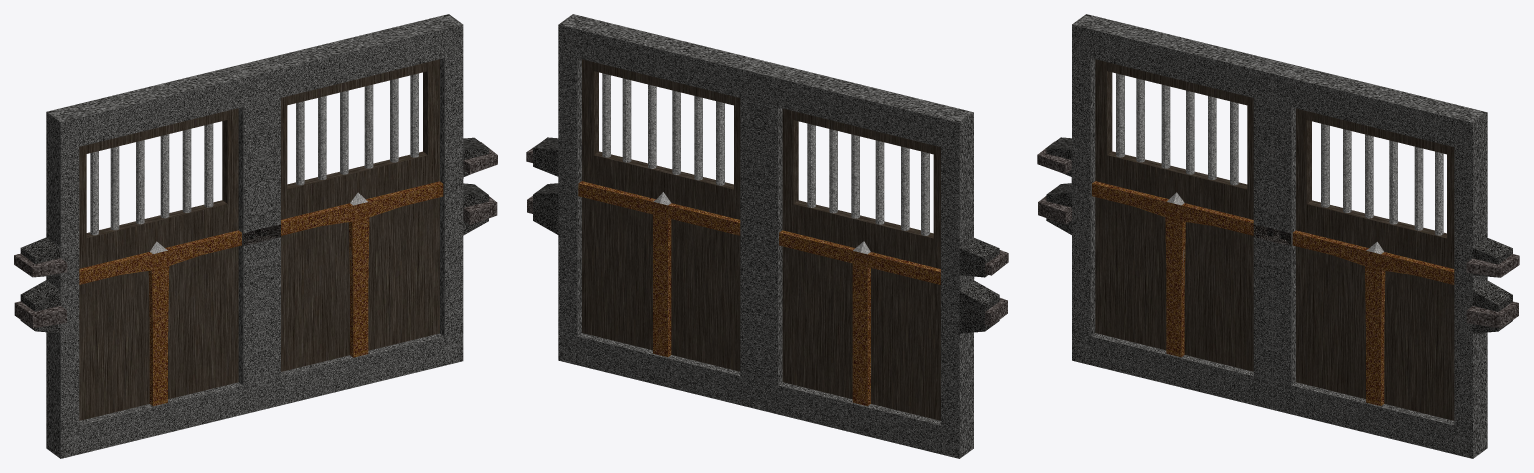
File: CastleDoorMain_Asset.fbx
The picture shows the model from 3 angles, left to right: view 1: azimuth 30°, elevation 25°; view 2: azimuth 150°, elevation 25°; view 3: azimuth 330°, elevation 25°; orthographic projection.
Visible parts, largest first — view 1: CastleDoorMain1, CastleDoorMain2; view 2: CastleDoorMain1, CastleDoorMain2; view 3: CastleDoorMain2, CastleDoorMain1.
Boxes of the visible parts, box(x1,y1,x2,y2) form: CastleDoorMain1: box(14, 63, 261, 458); CastleDoorMain2: box(248, 14, 497, 409); CastleDoorMain1: box(759, 63, 1008, 458); CastleDoorMain2: box(526, 14, 773, 409); CastleDoorMain2: box(1272, 63, 1519, 458); CastleDoorMain1: box(1037, 14, 1286, 409).
Bounding box in the file's own units: 4.57 × 3.15 × 0.3667.
